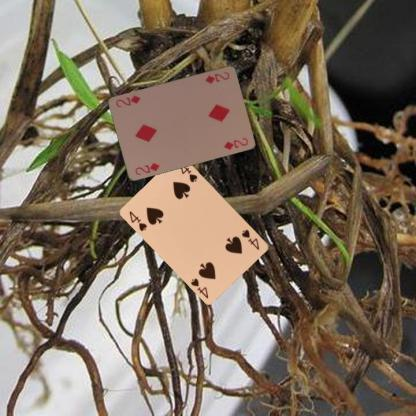2d: (132, 160, 162, 176), (203, 69, 230, 85)
4s: (239, 226, 261, 251), (126, 209, 148, 232)
